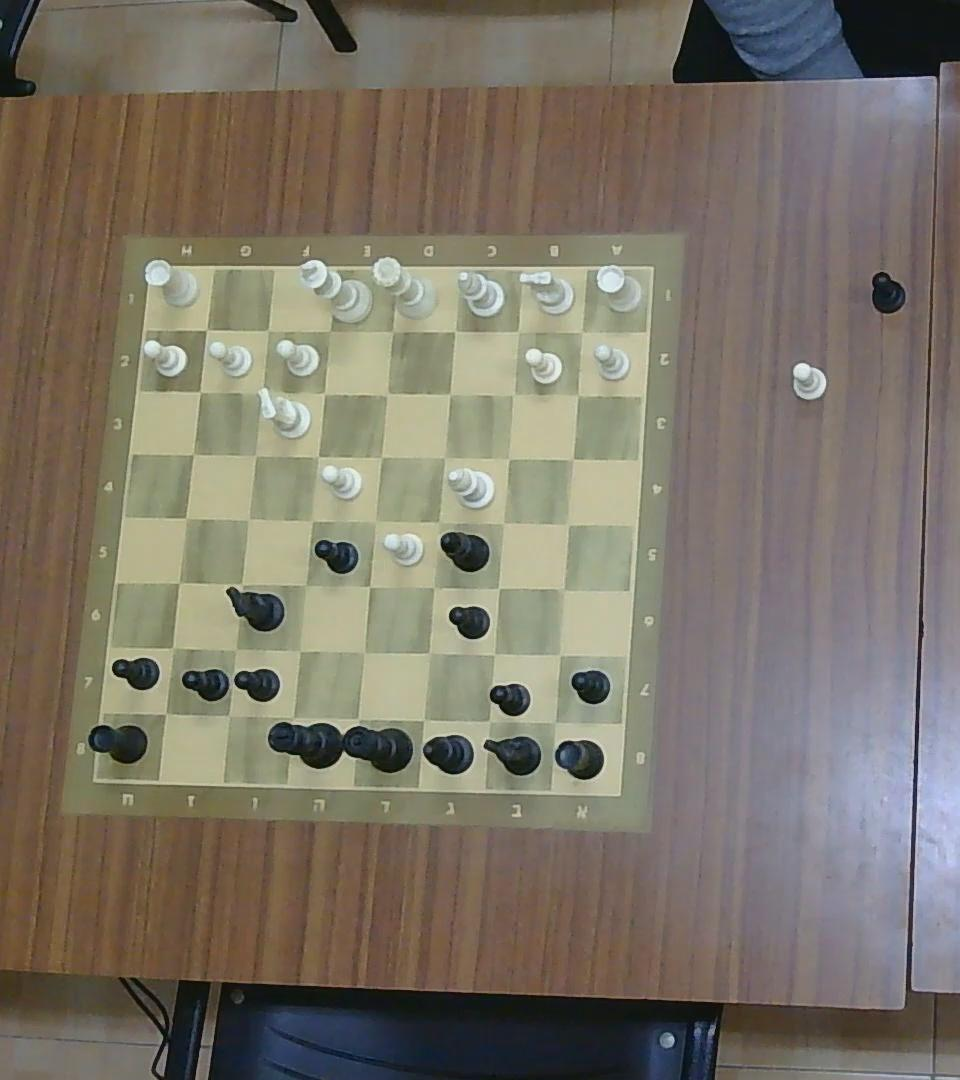xcorner: (345, 706, 371, 731), (154, 701, 178, 725), (379, 318, 403, 342), (477, 708, 501, 732), (216, 703, 240, 727), (277, 707, 302, 730), (412, 708, 435, 732), (288, 640, 311, 662), (353, 642, 375, 664), (230, 572, 252, 594), (162, 637, 184, 658), (544, 712, 567, 732), (419, 642, 440, 663), (360, 576, 380, 597), (182, 443, 202, 464), (246, 443, 266, 464), (365, 511, 386, 531), (320, 319, 339, 341), (169, 572, 189, 592), (225, 639, 245, 659), (423, 577, 443, 597), (176, 507, 195, 528), (302, 509, 321, 530), (370, 447, 389, 467), (238, 509, 257, 529), (376, 383, 395, 403), (296, 575, 315, 595), (445, 320, 464, 340), (440, 383, 459, 403), (483, 645, 503, 664), (499, 449, 518, 468), (494, 513, 513, 532), (508, 321, 527, 340), (196, 319, 215, 338), (429, 513, 448, 532), (554, 579, 573, 598), (308, 445, 326, 465), (559, 515, 578, 533), (564, 449, 582, 468), (315, 383, 333, 402), (573, 321, 591, 340), (504, 385, 522, 404), (568, 385, 586, 404), (259, 321, 277, 340), (489, 579, 507, 598), (435, 448, 453, 466), (253, 382, 271, 400), (190, 382, 207, 400), (550, 646, 568, 663)
